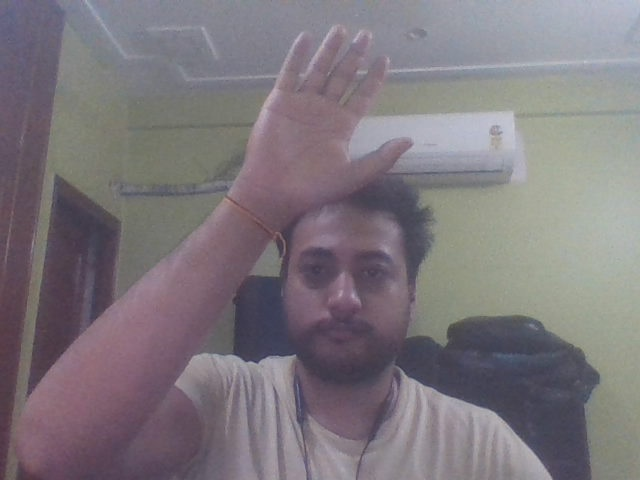Hello: (219, 14, 440, 245)
